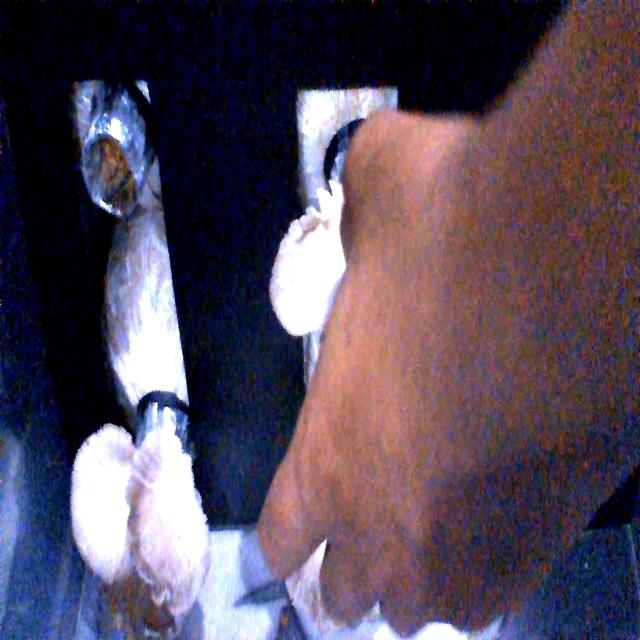big: (66, 417, 213, 608)
nfound: (77, 136, 146, 218)
